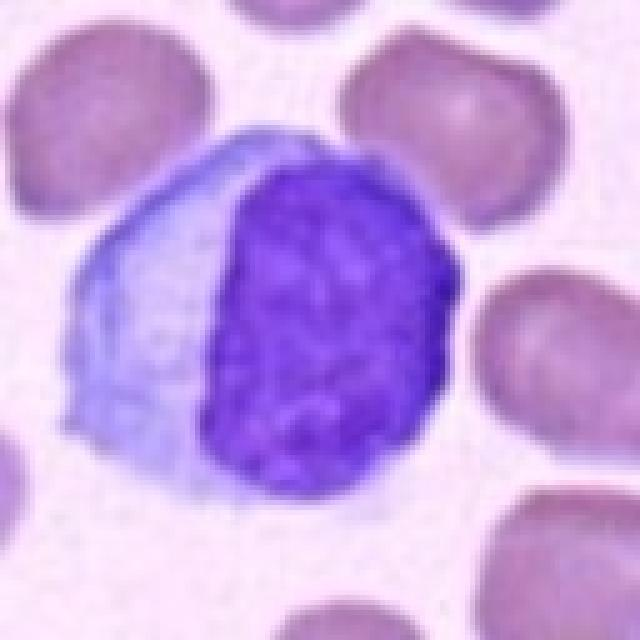lympho: (58, 115, 469, 516)
